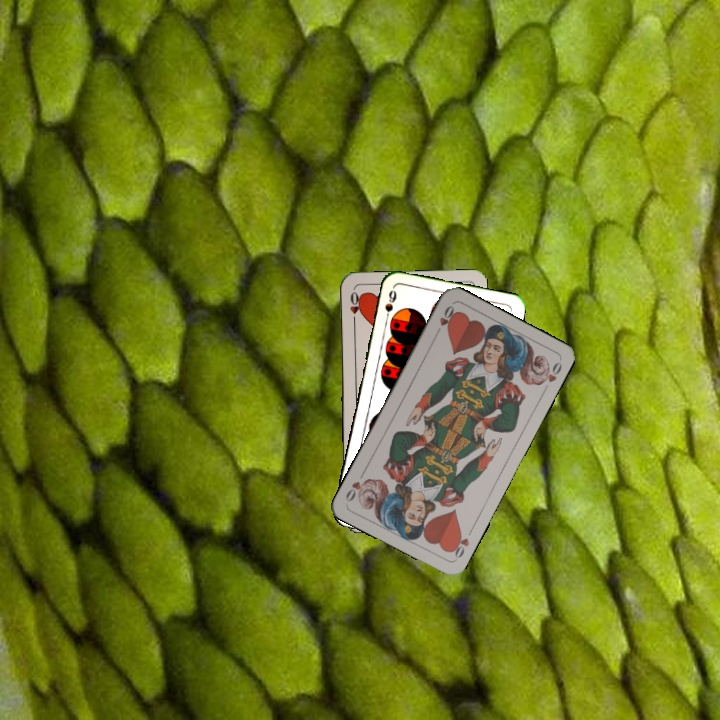HO: (446, 524, 476, 561), (431, 301, 458, 339), (346, 288, 362, 327)
S9: (381, 286, 399, 325)
